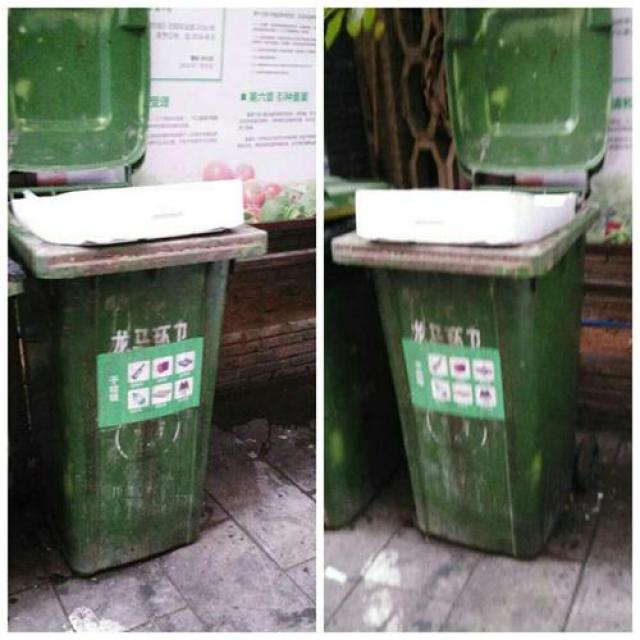overflow: (6, 177, 265, 571), (330, 188, 599, 557)
